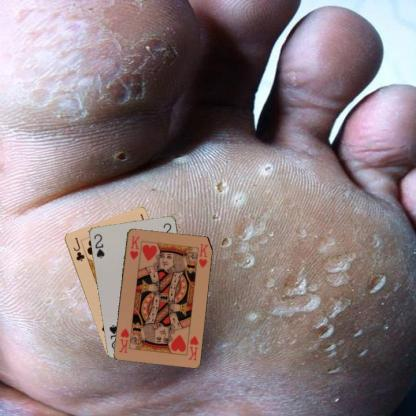2s: (91, 231, 106, 260)
Jc: (70, 235, 86, 262)
Kh: (186, 333, 200, 361), (127, 233, 141, 260)
